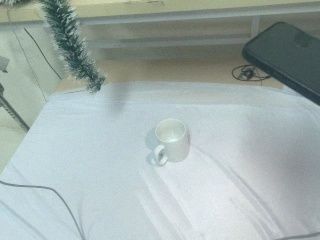cup: (142, 117, 191, 169)
phone: (235, 21, 320, 113)
